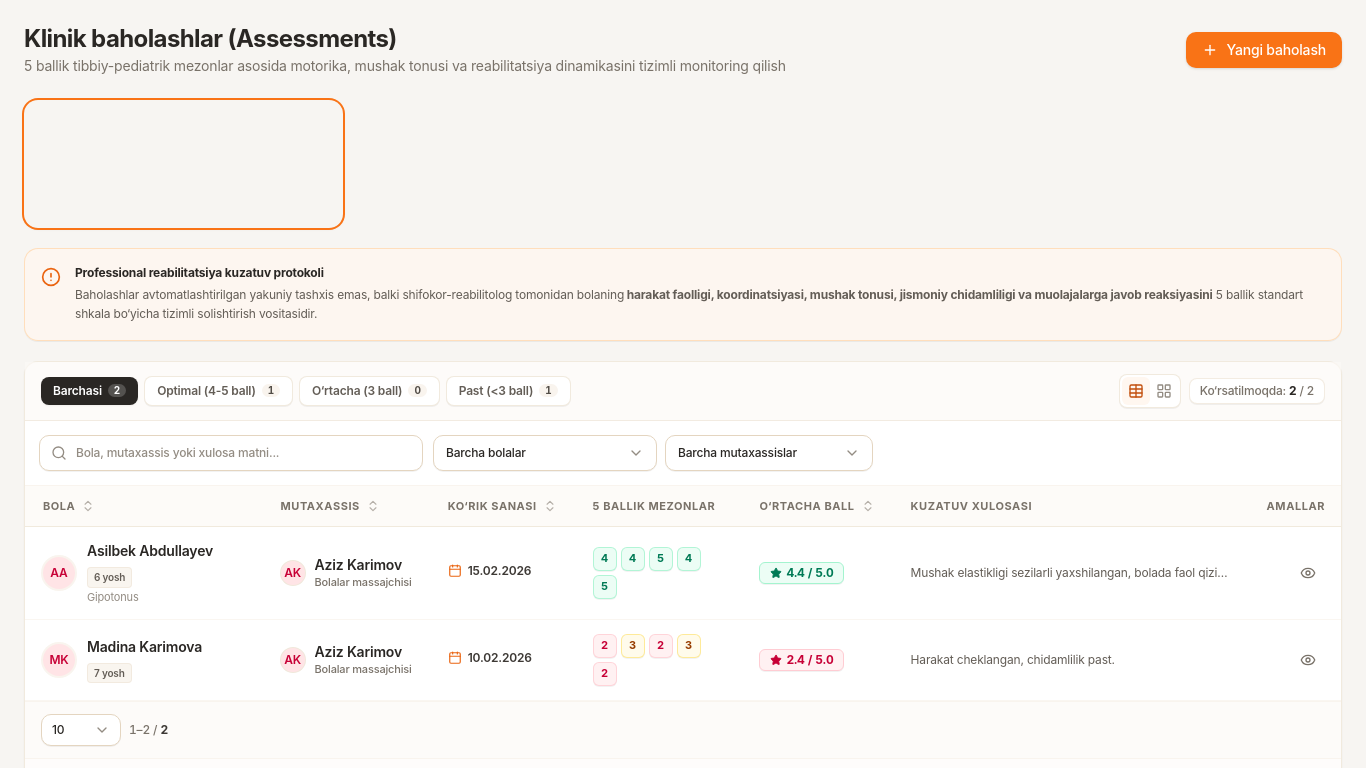
Test: AssessmentsPage Component › filters assessments by score tabs
// Click 'Optimal (4-5 ball)' tab
Click the button "Optimal (4-5 ball) 1": {"x": 219, "y": 391} [144,376,293,406]
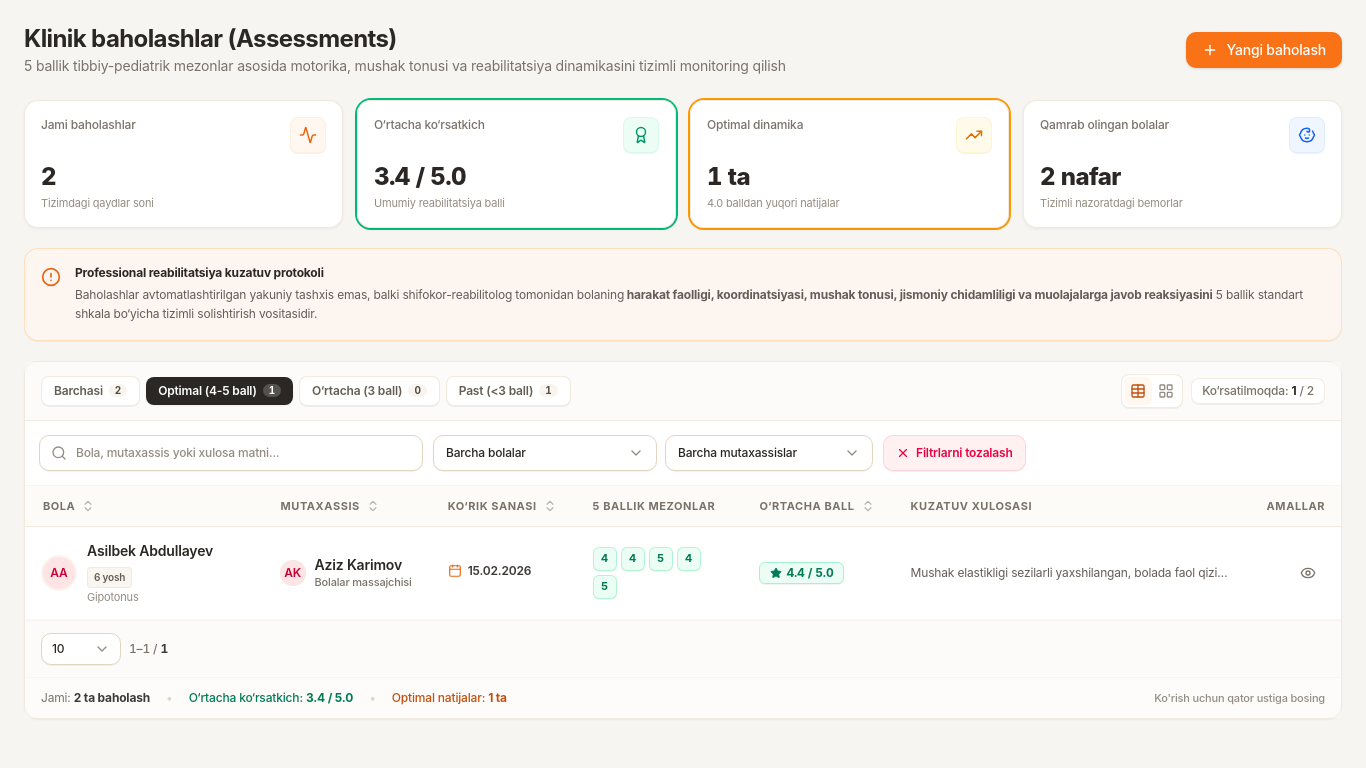
Check: the text "Asilbek Abdullayev" is shown, box [87,541,213,561]
Check: the text "Madina Karimova" is gone
